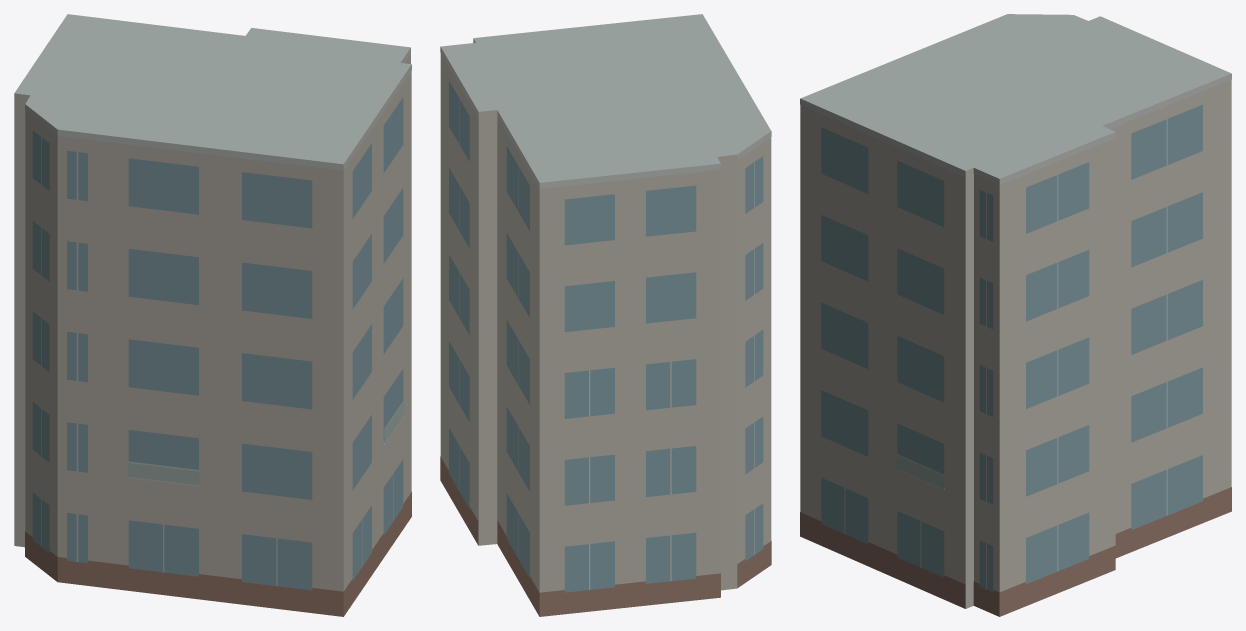
File: survey-upis-32855491.glb
3 views of the same model, side by side, from view 1: azimuth 30°, elevation 25°; view 2: azimuth 150°, elevation 25°; view 3: azimuth 270°, elevation 25° (orthographic). The views are drawn at different scales.
Visible parts, largest first — view 1: survey-upis-32855491.tmp; view 2: survey-upis-32855491.tmp; view 3: survey-upis-32855491.tmp.
Boxes of the visible parts, box(x1,y1,x2,y2) form: survey-upis-32855491.tmp: box(14, 14, 411, 616); survey-upis-32855491.tmp: box(440, 14, 771, 616); survey-upis-32855491.tmp: box(800, 14, 1231, 616).
Bounding box in the file's own units: 13.97 × 17.3 × 15.46.
